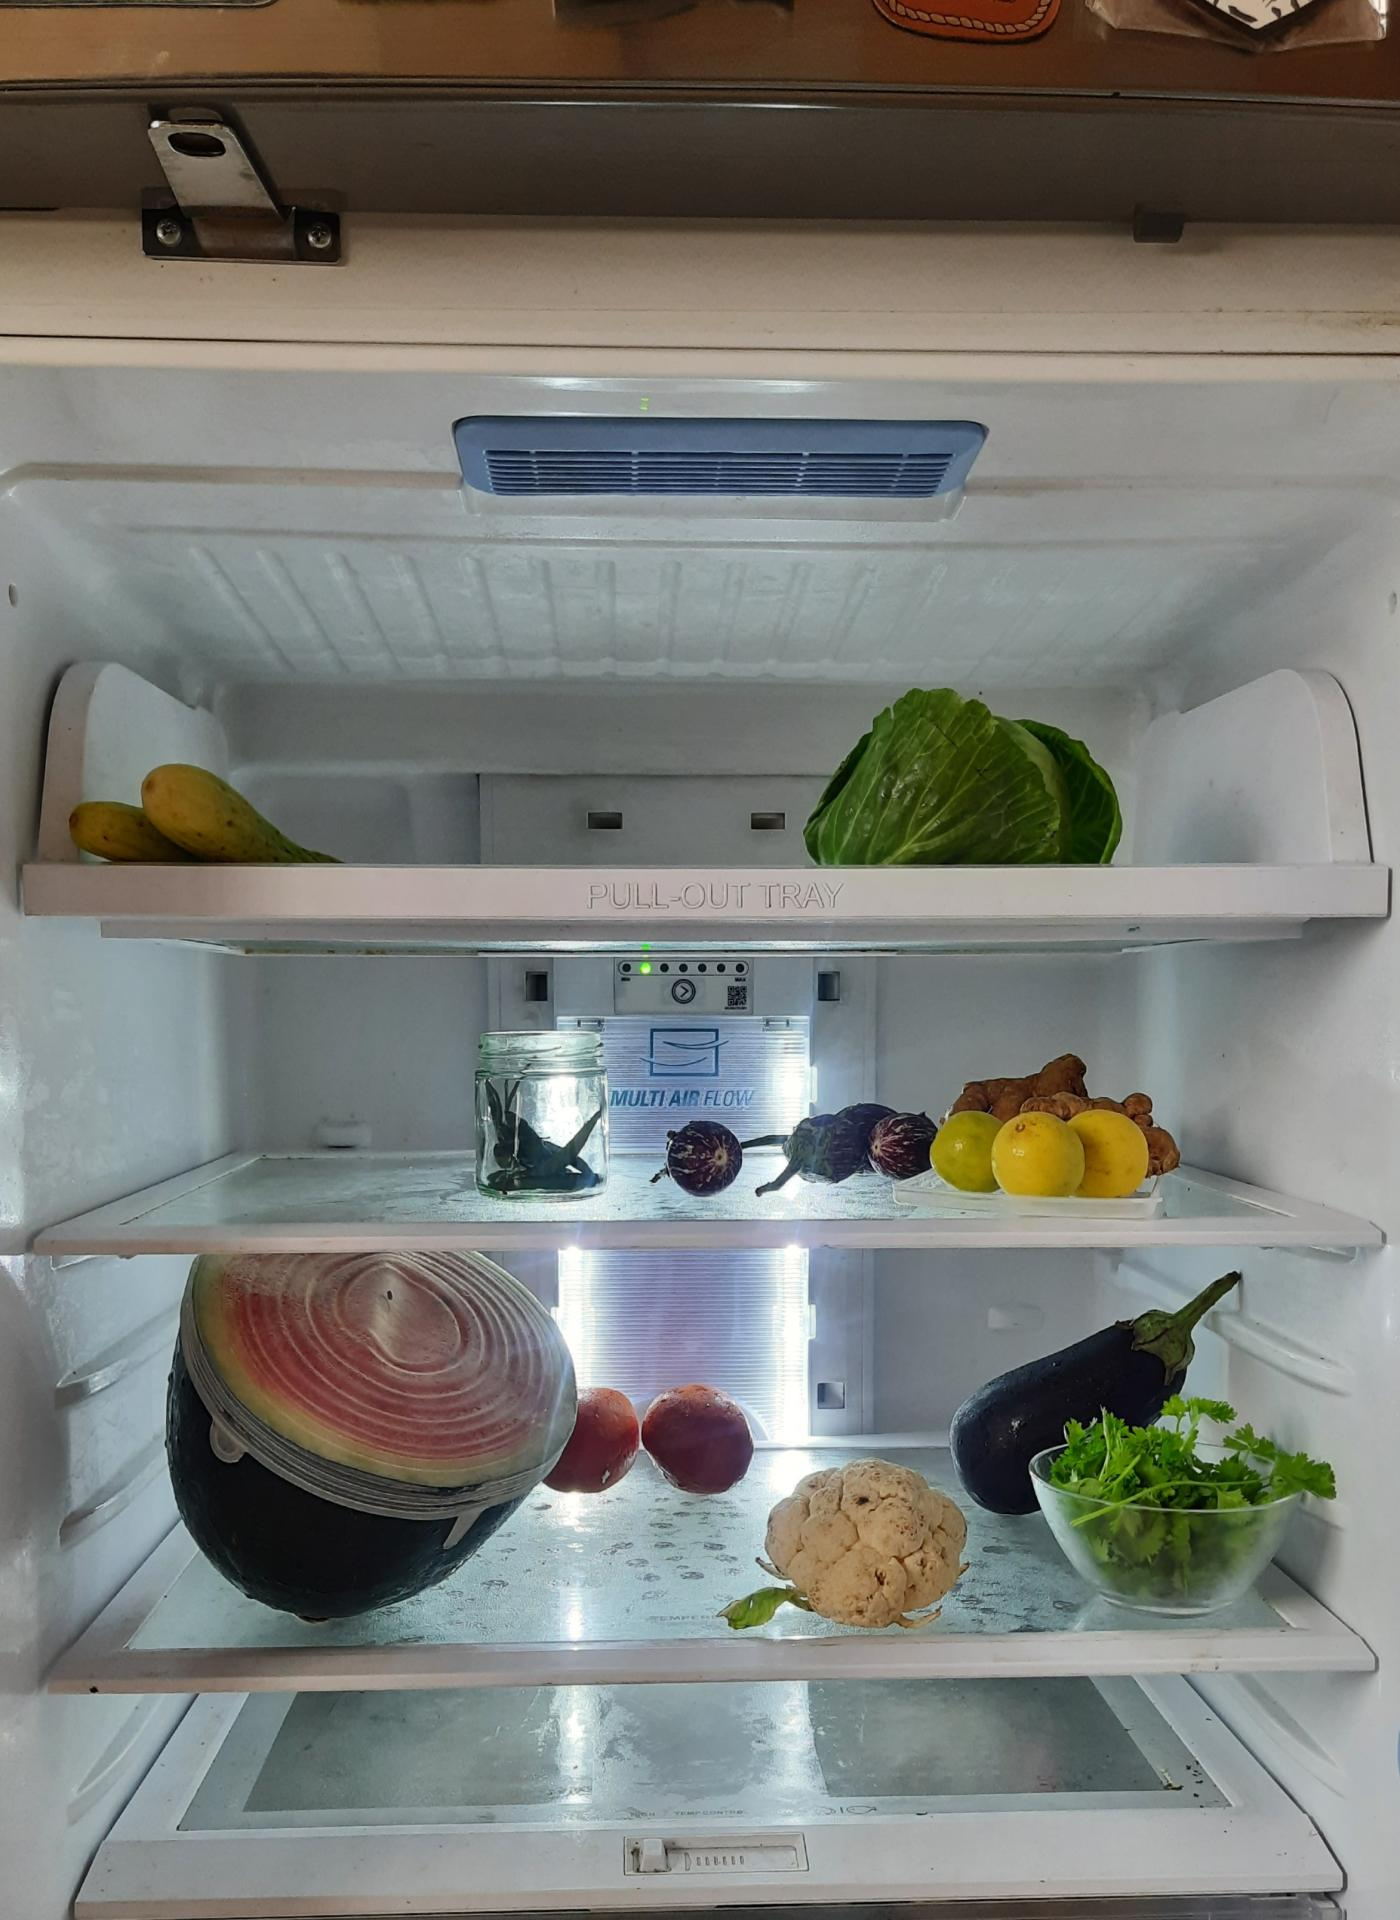brinjal: (959, 1289, 1243, 1531), (662, 1100, 944, 1187)
cabbage: (798, 687, 1132, 868)
cauliflower: (754, 1456, 965, 1619)
chillies: (465, 1029, 608, 1194)
coriander: (1039, 1397, 1334, 1602)
cucumber: (72, 757, 353, 868)
ginger: (942, 1052, 1163, 1122)
lemon: (930, 1109, 1169, 1196)
tomato: (643, 1380, 765, 1494), (567, 1391, 638, 1509)
watermelon: (163, 1240, 581, 1607)
